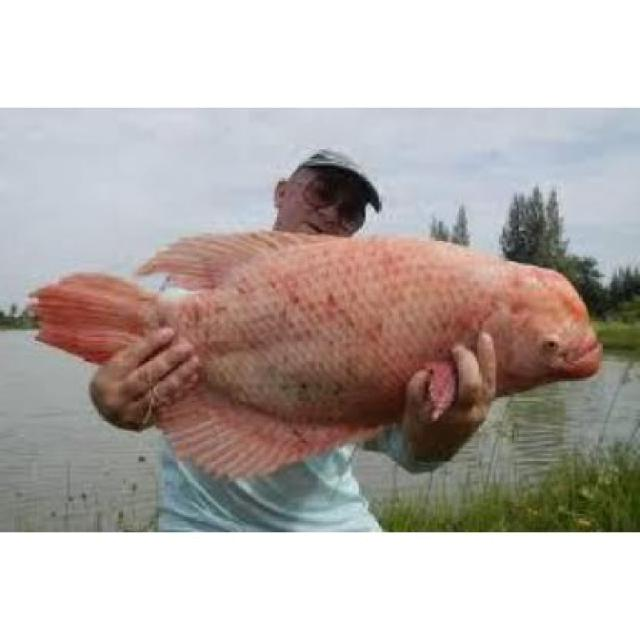gurame: (68, 238, 600, 464)
